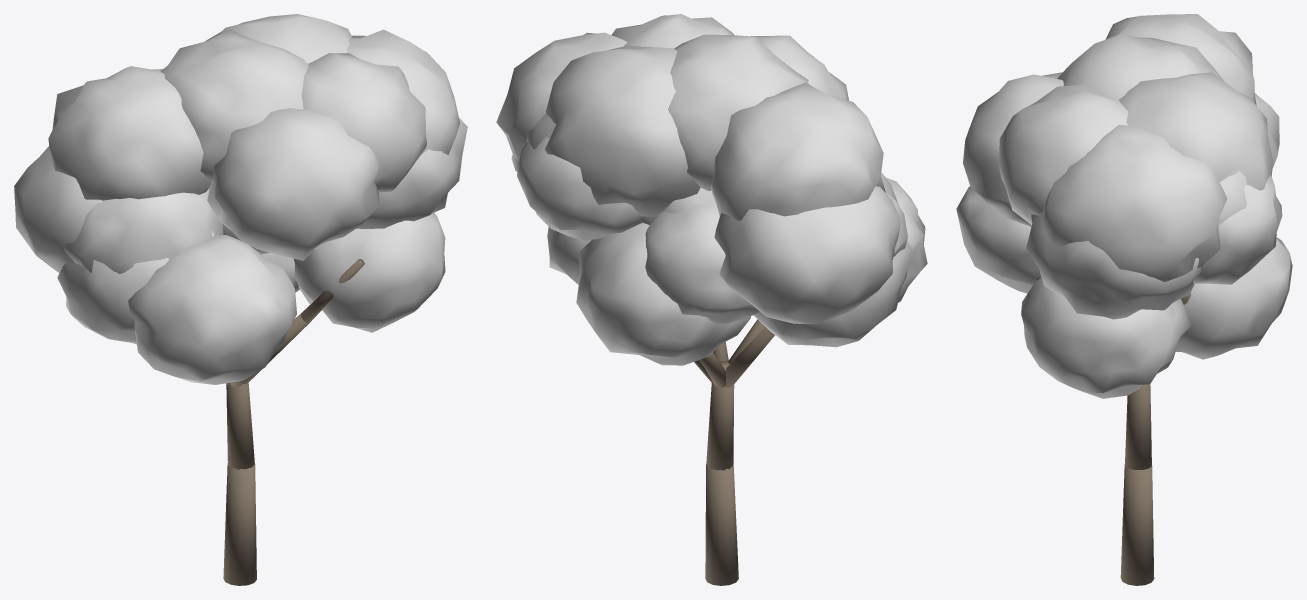
Rendered from tree-deciduous-lime.glb.
The picture shows the model from 3 angles, left to right: view 1: azimuth 30°, elevation 25°; view 2: azimuth 150°, elevation 25°; view 3: azimuth 270°, elevation 25°; orthographic projection.
Parts seen in each view (by area): view 1: Leaf cluster.011, Leaf cluster.002, Leaf cluster, Leaf cluster.012, Crown top, Leaf cluster.013, Leaf cluster.008, Leaf cluster.007, Leaf cluster.009, Leaf cluster.001, Leaf cluster.004, Tapered trunk (+3 smaller); view 2: Leaf cluster.015, Leaf cluster.007, Leaf cluster, Leaf cluster.006, Crown top, Leaf cluster.010, Leaf cluster.003, Leaf cluster.009, Leaf cluster.001, Tapered trunk, Leaf cluster.013, Tapered trunk.001 (+7 smaller); view 3: Leaf cluster.009, Leaf cluster.012, Leaf cluster.015, Leaf cluster.013, Leaf cluster.004, Leaf cluster.006, Crown top, Leaf cluster.011, Leaf cluster.002, Leaf cluster, Leaf cluster.003, Tapered trunk (+3 smaller).
Boxes of the visible parts, bbox=[...] form: Leaf cluster.011: bbox=[207, 108, 379, 260]; Leaf cluster.002: bbox=[128, 235, 296, 384]; Leaf cluster: bbox=[48, 66, 211, 200]; Leaf cluster.012: bbox=[294, 212, 445, 332]; Crown top: bbox=[160, 29, 308, 188]; Leaf cluster.013: bbox=[301, 53, 426, 192]; Leaf cluster.008: bbox=[63, 189, 223, 273]; Leaf cluster.007: bbox=[14, 146, 102, 272]; Leaf cluster.009: bbox=[347, 29, 459, 154]; Leaf cluster.001: bbox=[57, 230, 213, 344]; Leaf cluster.004: bbox=[357, 118, 467, 228]; Tapered trunk: bbox=[223, 463, 256, 585]; Leaf cluster.015: bbox=[545, 45, 700, 216]; Leaf cluster.007: bbox=[714, 186, 901, 324]; Leaf cluster: bbox=[711, 82, 885, 221]; Leaf cluster.006: bbox=[576, 223, 750, 365]; Crown top: bbox=[668, 34, 808, 190]; Leaf cluster.010: bbox=[645, 202, 759, 323]; Leaf cluster.003: bbox=[517, 137, 644, 240]; Leaf cluster.009: bbox=[496, 32, 627, 161]; Leaf cluster.001: bbox=[753, 241, 912, 347]; Tapered trunk: bbox=[705, 464, 738, 585]; Leaf cluster.013: bbox=[612, 14, 734, 48]; Tapered trunk.001: bbox=[706, 360, 734, 470]; Leaf cluster.009: bbox=[1039, 125, 1227, 281]; Leaf cluster.012: bbox=[1021, 277, 1190, 398]; Leaf cluster.015: bbox=[1119, 72, 1272, 190]; Leaf cluster.013: bbox=[999, 84, 1128, 224]; Leaf cluster.004: bbox=[1026, 214, 1201, 319]; Leaf cluster.006: bbox=[1175, 237, 1292, 359]; Crown top: bbox=[1057, 33, 1223, 99]; Leaf cluster.011: bbox=[963, 72, 1063, 226]; Leaf cluster.002: bbox=[956, 186, 1040, 293]; Leaf cluster: bbox=[1105, 14, 1256, 105]; Leaf cluster.003: bbox=[1193, 174, 1282, 284]; Tapered trunk: bbox=[1120, 464, 1154, 585].
Size of the model in its own units: 4.65 by 6 by 3.41.
